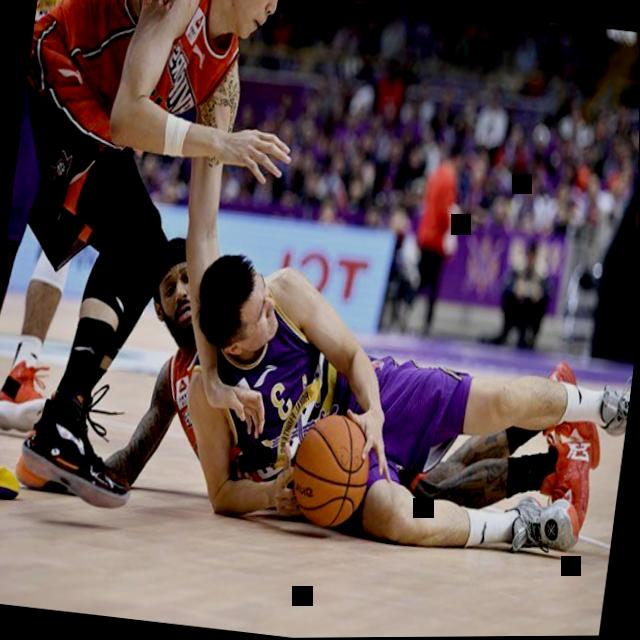Fall-Detected: (71, 234, 345, 533)
